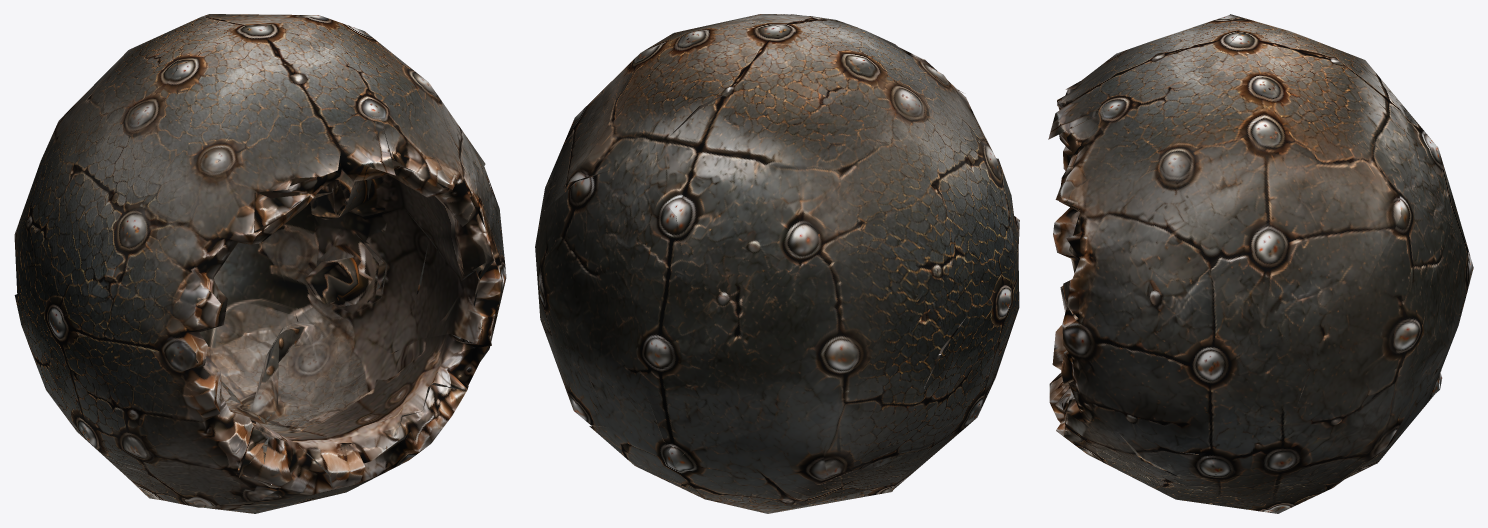
File: EnergyCoreBreak.fbx
3 views of the same model, side by side, from view 1: azimuth 30°, elevation 25°; view 2: azimuth 150°, elevation 25°; view 3: azimuth 270°, elevation 25° (orthographic). The views are drawn at different scales.
Visible parts, largest first — view 1: texture_mapping; view 2: texture_mapping; view 3: texture_mapping.
Boxes of the visible parts, x1,y1,x2,y2 form: texture_mapping: (14,14,506,513); texture_mapping: (535,14,1019,513); texture_mapping: (1048,14,1473,513).
Size of the model in its own units: 95.56 by 98.78 by 82.69.
1 material, 1 textured.
